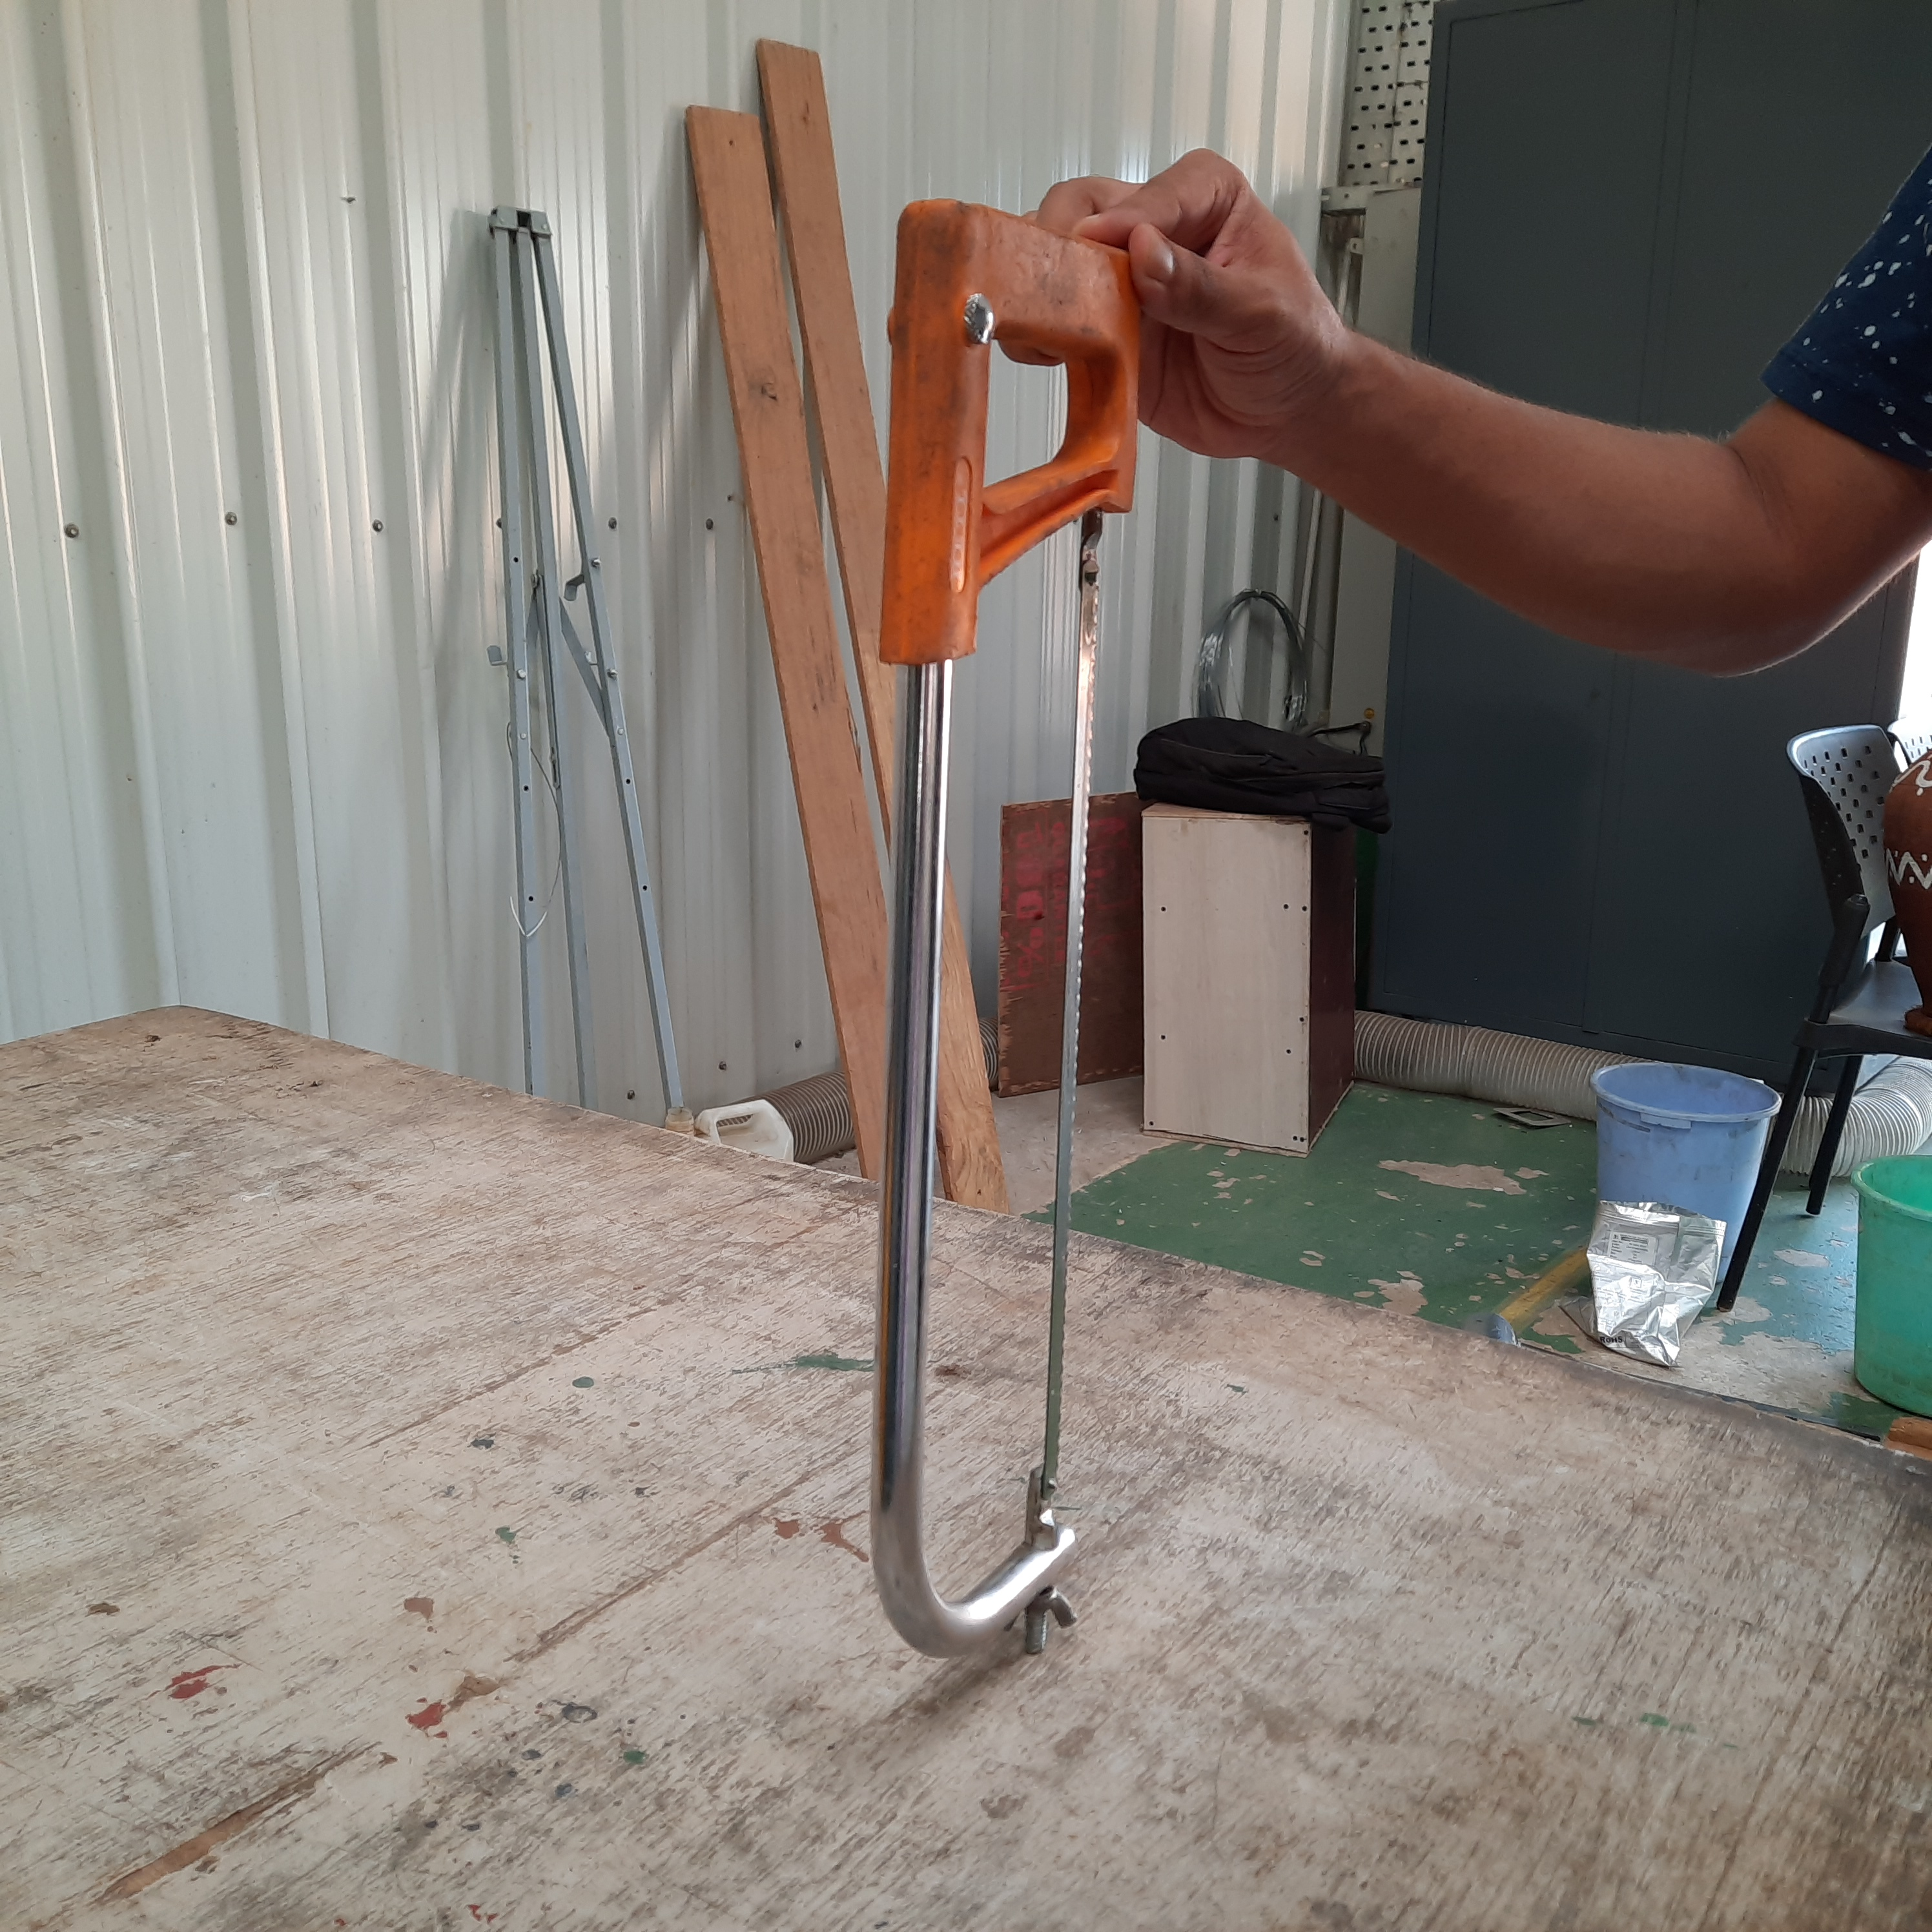Hexaframe: (867, 186, 1150, 1647)
